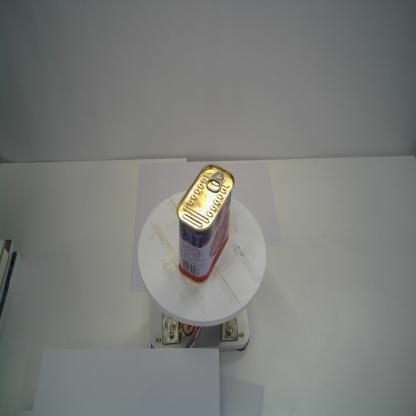Canned Food: (176, 164, 236, 292)
